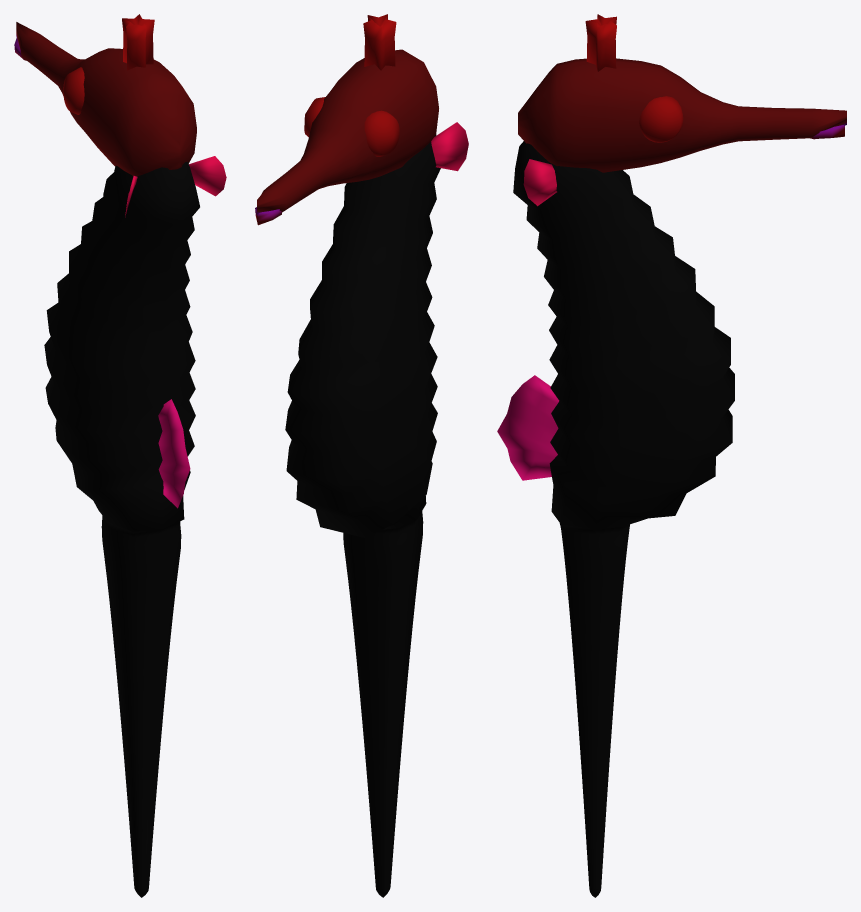
File: seahorse_common_game.glb
The picture shows the model from 3 angles, left to right: view 1: azimuth 30°, elevation 25°; view 2: azimuth 150°, elevation 25°; view 3: azimuth 270°, elevation 25°; orthographic projection.
Parts seen in each view (by area): view 1: seahorse_common_game; view 2: seahorse_common_game; view 3: seahorse_common_game.
Boxes of the visible parts, <box> form: seahorse_common_game: <box>14,14,226,897</box>; seahorse_common_game: <box>255,14,468,897</box>; seahorse_common_game: <box>497,14,846,897</box>.
Size of the model in its own units: 0.0206 by 0.15 by 0.0542.
